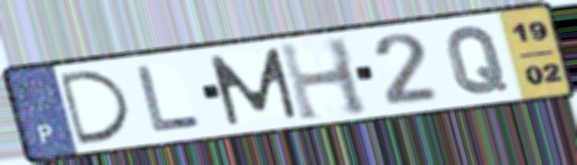2: (370, 30, 444, 109)
D: (54, 67, 135, 148)
H: (274, 34, 375, 125)
L: (133, 62, 206, 136)
M: (205, 45, 302, 128)
Q: (443, 23, 512, 97)
